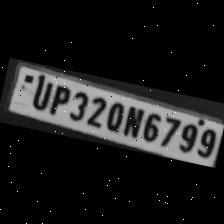2: (82, 92, 108, 128)
3: (64, 86, 90, 122)
6: (138, 106, 163, 142)
7: (156, 112, 181, 148)
9: (174, 116, 200, 154), (192, 122, 219, 158)
N: (120, 102, 144, 138)
P: (46, 80, 72, 116)
Q: (101, 96, 126, 132)
U: (26, 72, 54, 110)
